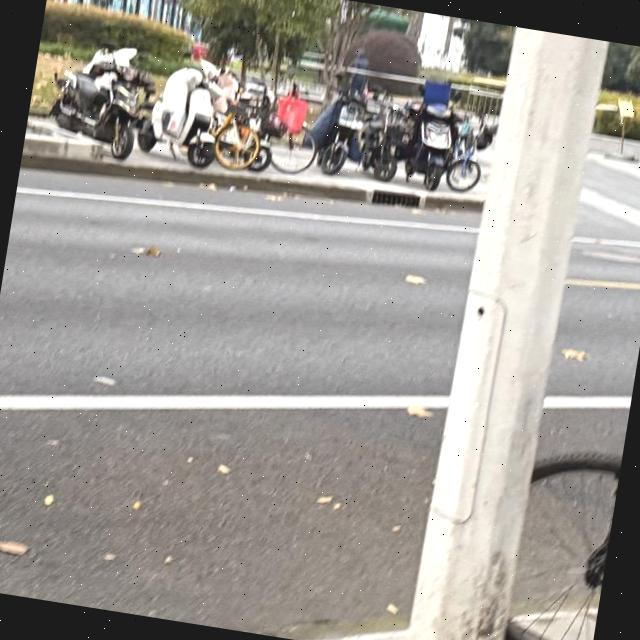curb: (20, 152, 482, 212)
